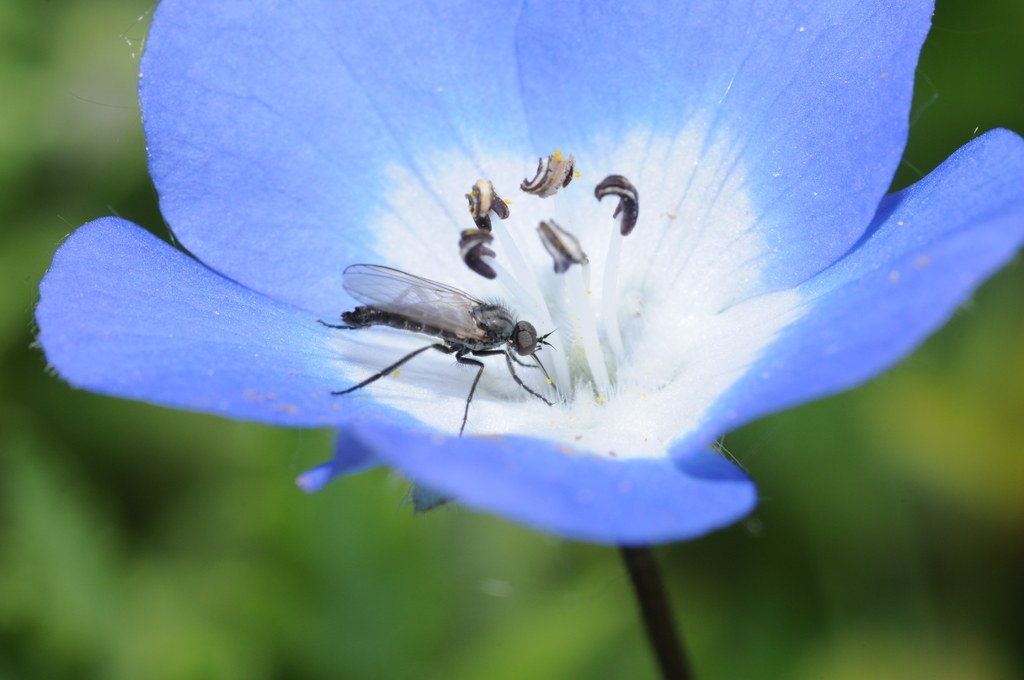bee: (332, 249, 558, 394)
insect: (35, 0, 1023, 551)
